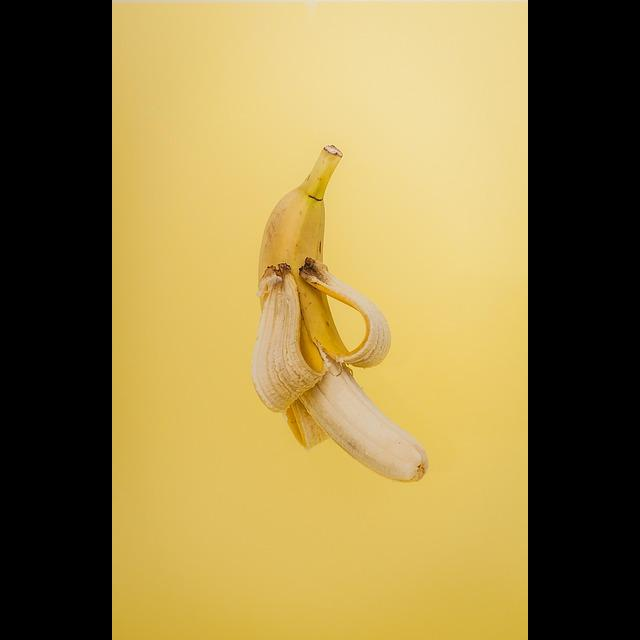banana: (230, 173, 455, 494)
